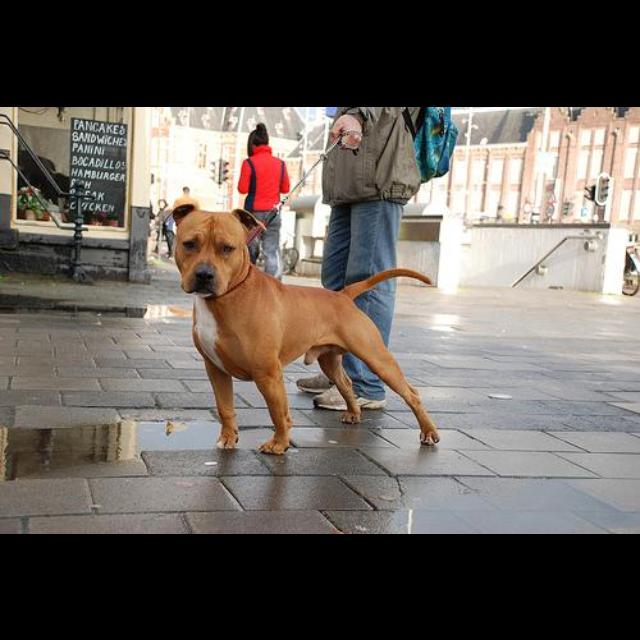amstaff: (171, 201, 442, 455)
person: (296, 108, 460, 411), (241, 123, 291, 282)
